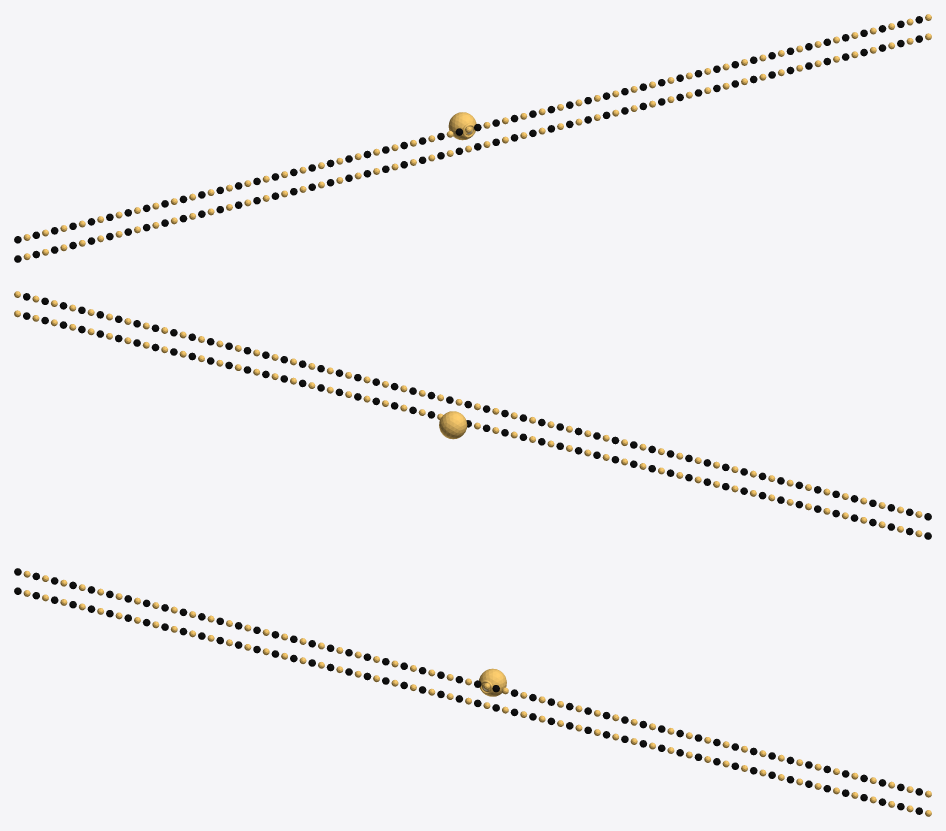
File: mangalsutra_traditional_long.glb
3 views of the same model, one above another, from view 1: azimuth 30°, elevation 25°; view 2: azimuth 150°, elevation 25°; view 3: azimuth 330°, elevation 25° (orthographic).
Parts seen in each view (by area): view 1: world; view 2: world; view 3: world.
Boxes of the visible parts, x1,y1,x2,y2 form: world: [14, 14, 931, 262]; world: [14, 291, 931, 539]; world: [14, 568, 931, 816].
Size of the model in its own units: 0.5982 by 0.0164 by 0.0272.
1 material, 1 textured.
